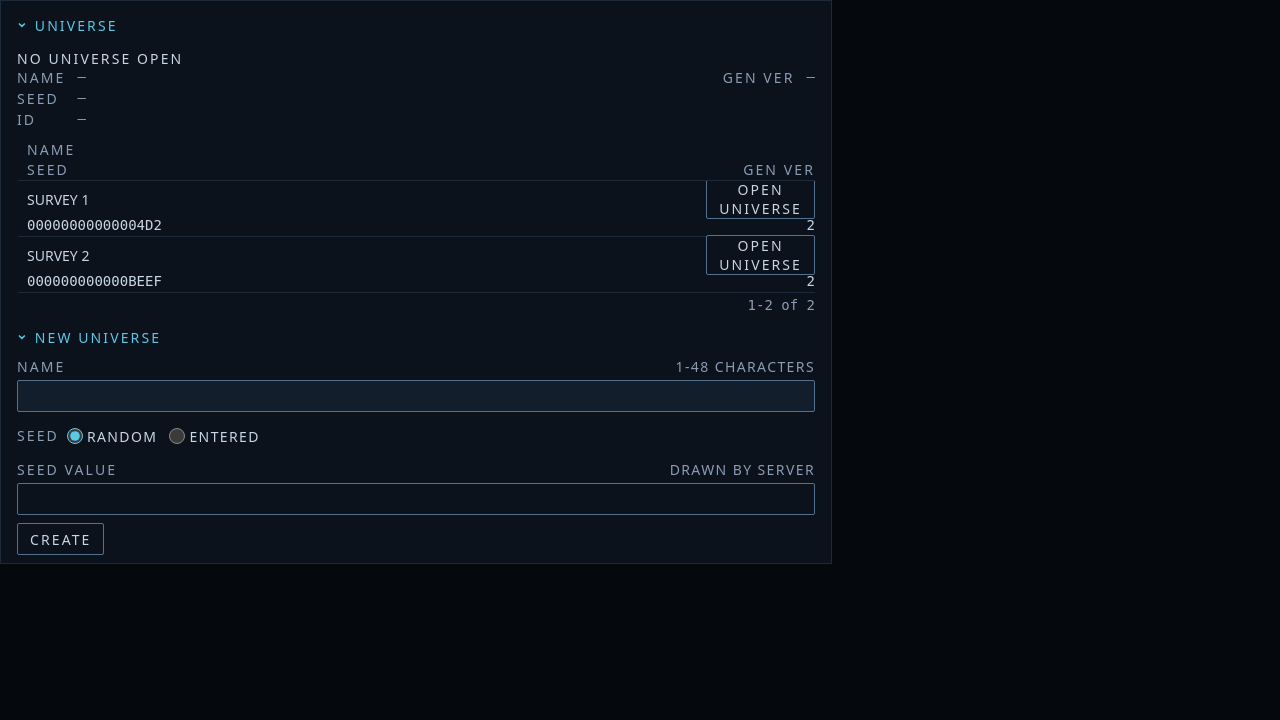
Test: GalaxyDisplay › UNIVERSE › folds to one line naming the universe once one is open
The width and height of the screenshot is (1280, 720).
Click the button with aria-label "Open universe SURVEY 1" at point(761, 199), box [706,179,815,219]
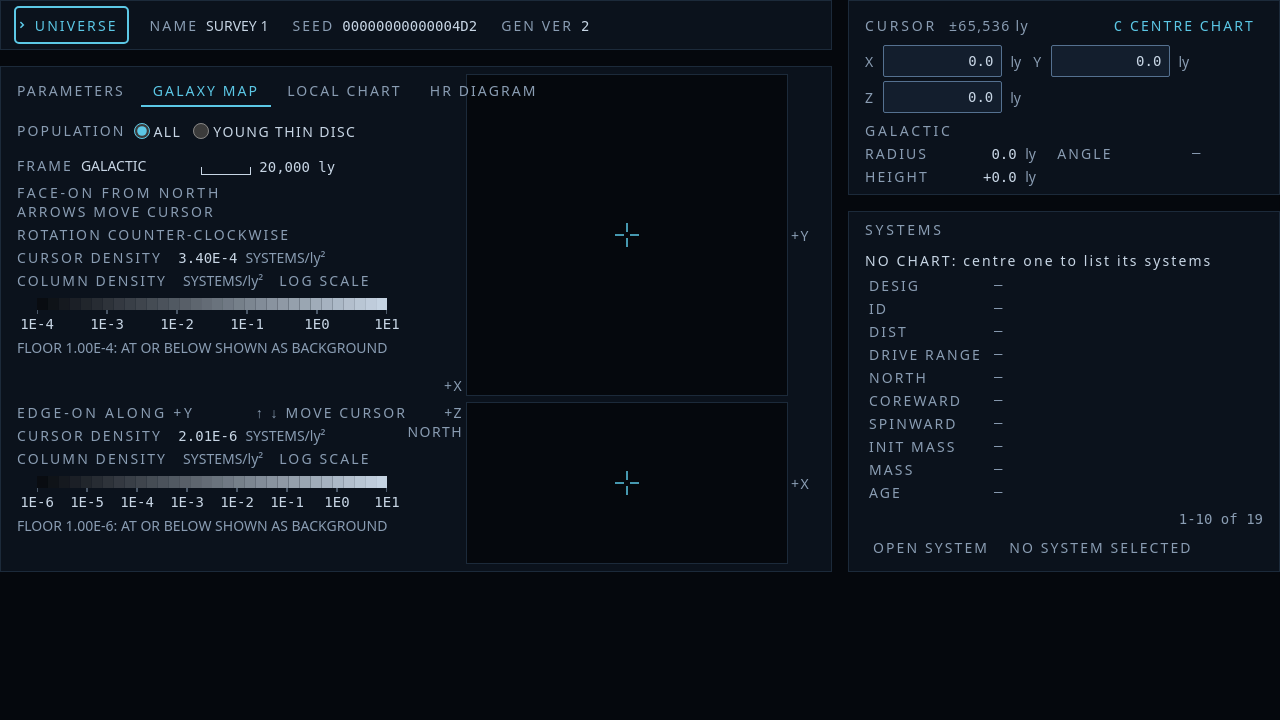
Expected: the text "SURVEY 1" is shown, [206,16,268,34]
Now the table "Universes" is gone
